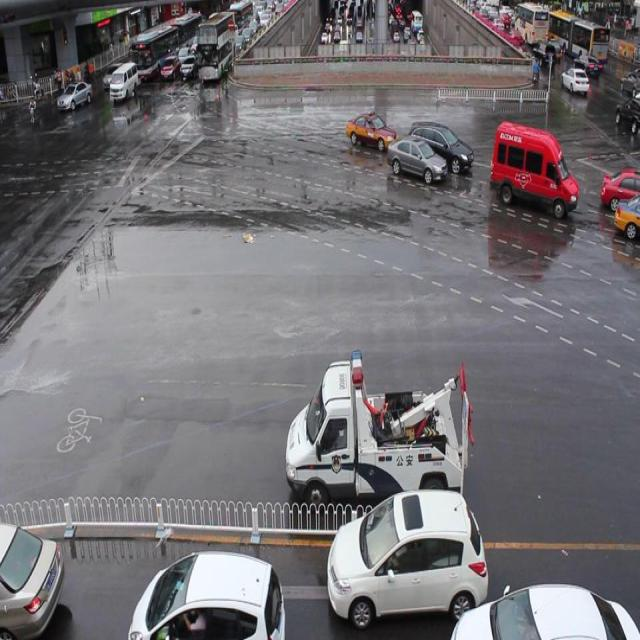bus: (284, 344, 472, 514)
car: (328, 488, 488, 626), (130, 548, 285, 640), (452, 580, 640, 640), (0, 516, 63, 640), (407, 117, 473, 171), (386, 134, 446, 180), (346, 108, 397, 149), (600, 167, 640, 211), (611, 198, 640, 236)
truck: (490, 117, 577, 215)
